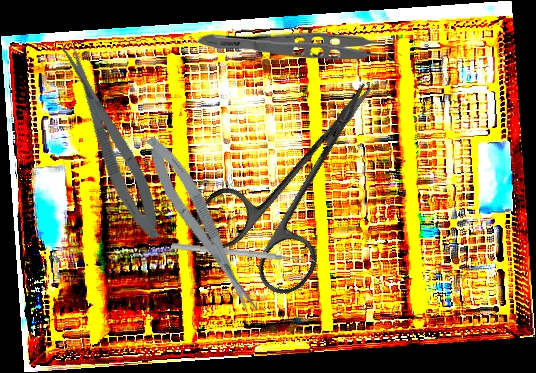Iris Scissors: (186, 50, 423, 304)
Micro Scissor: (137, 129, 265, 323), (55, 37, 170, 245)
Pusher: (170, 241, 316, 266)
Tissue Forceps: (196, 30, 403, 68)
